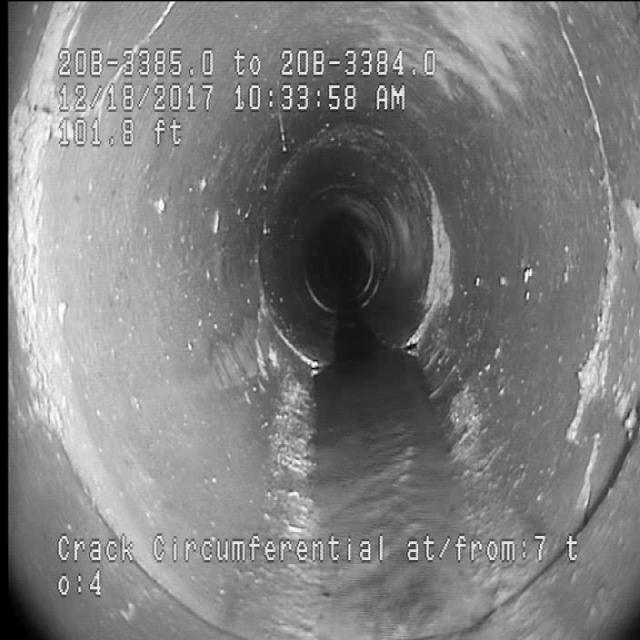Crack: (499, 23, 634, 444)
